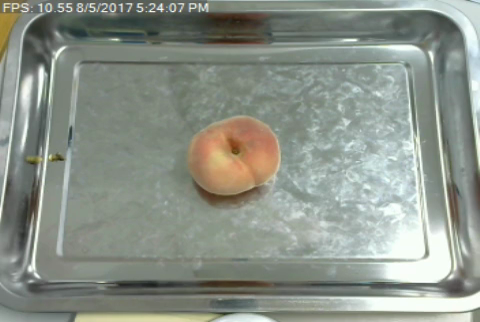Peach: (187, 115, 282, 196)
